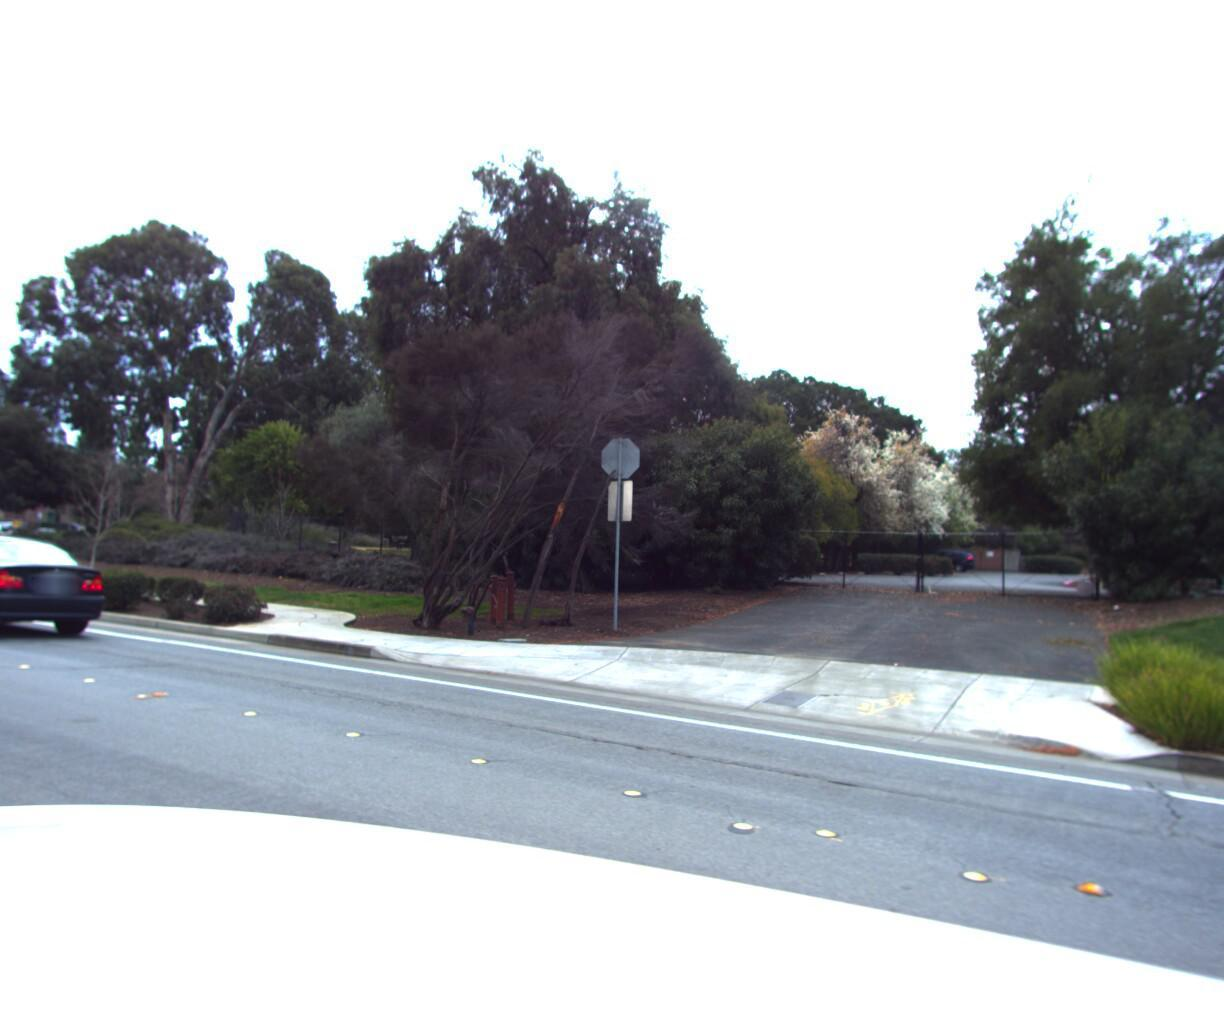car: (0, 532, 124, 646), (0, 515, 5, 538)
